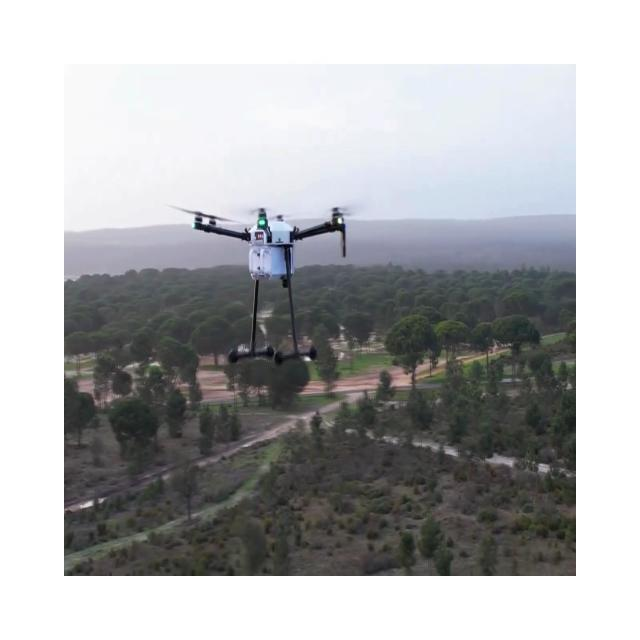drone: (164, 202, 351, 365)
